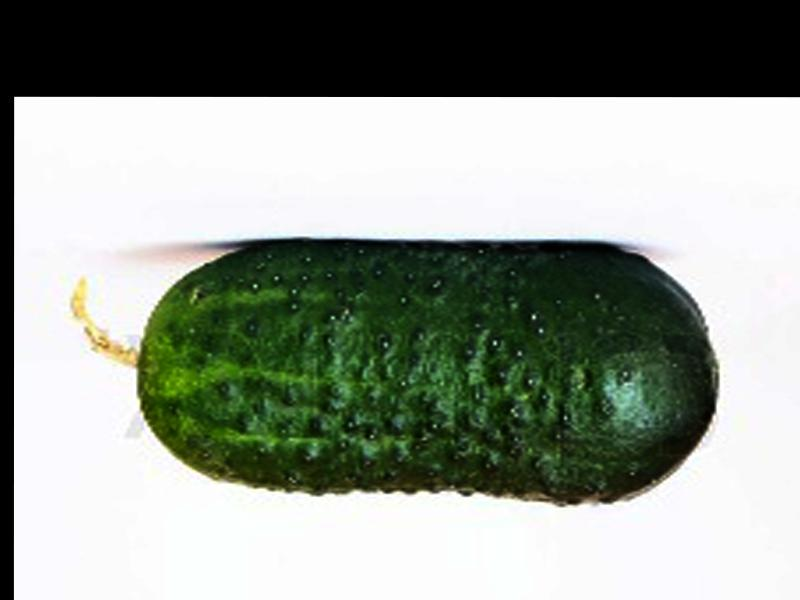Cucumber: (69, 239, 714, 508)
